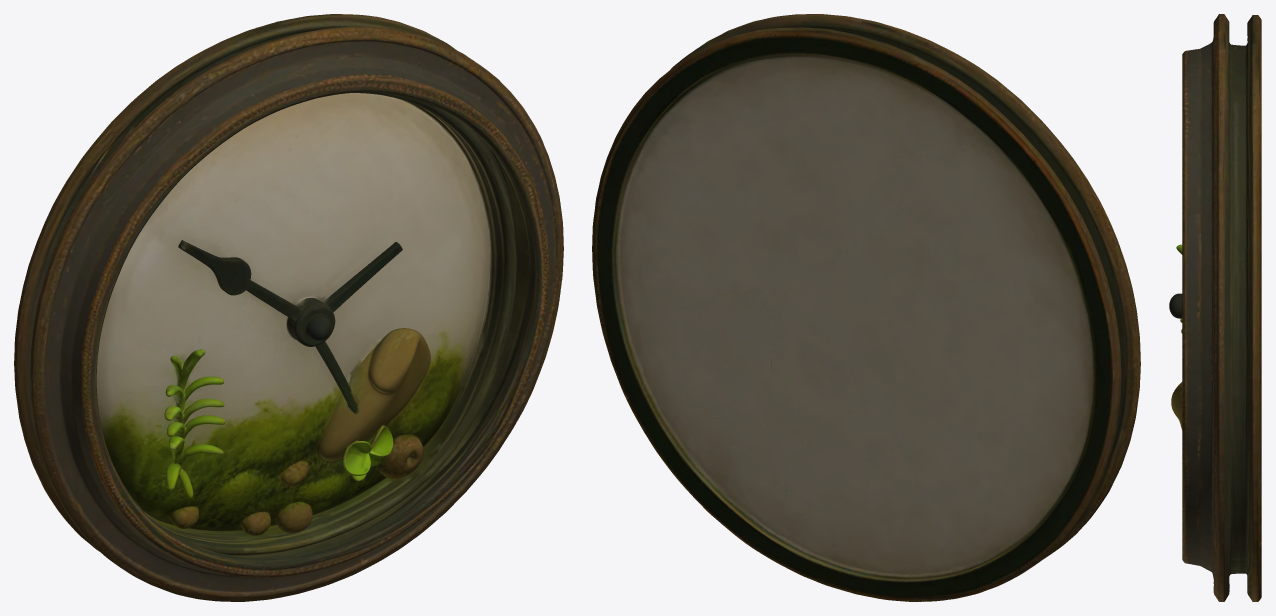
The model's file is CronoTerrarioglb.glb.
3 renders of one model, left to right at view 1: azimuth 30°, elevation 25°; view 2: azimuth 150°, elevation 25°; view 3: azimuth 270°, elevation 25°, orthographic. The views are drawn at different scales.
Parts seen in each view (by area): view 1: texture_pbr_v128; view 2: texture_pbr_v128; view 3: texture_pbr_v128.
Part boxes in pixels (box(x1,y1,x2,y2)): texture_pbr_v128: box(14, 14, 563, 601); texture_pbr_v128: box(592, 14, 1140, 601); texture_pbr_v128: box(1169, 14, 1261, 601).
Bounding box in the file's own units: 1.18 × 1.18 × 0.1867.
1 material, 1 textured.
